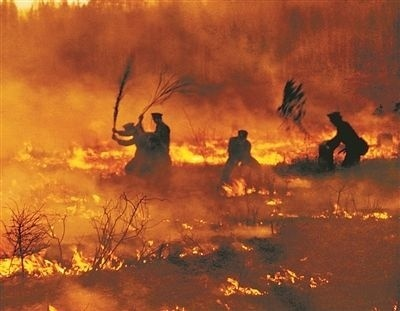fire: (216, 263, 330, 296)
